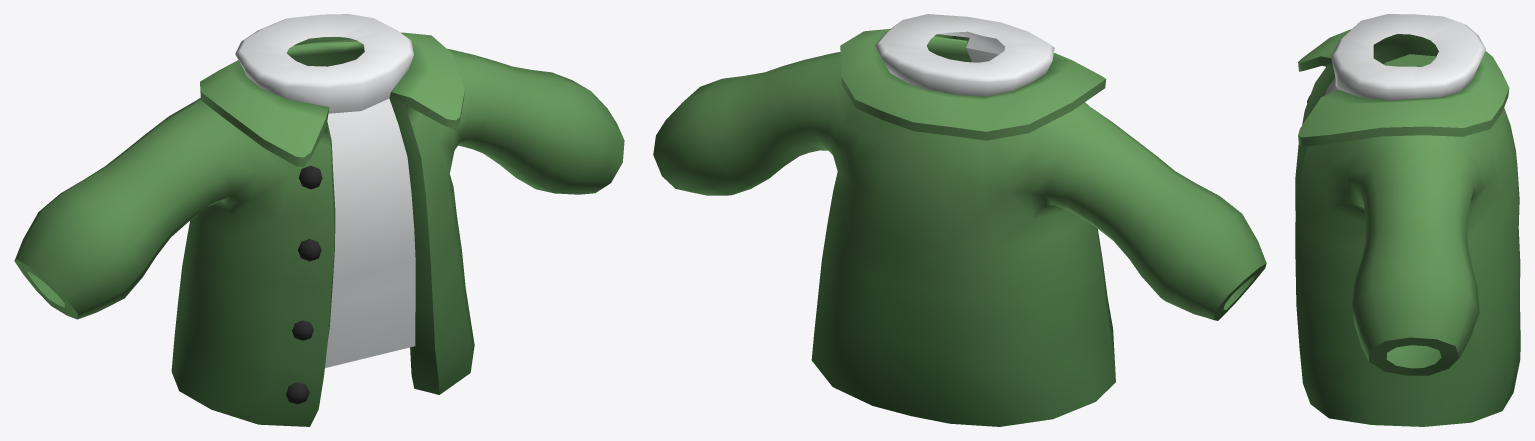
The model's file is Outwear_13.glb.
The picture shows the model from 3 angles, left to right: view 1: azimuth 30°, elevation 25°; view 2: azimuth 150°, elevation 25°; view 3: azimuth 270°, elevation 25°; orthographic projection.
Parts seen in each view (by area): view 1: Outwear_13; view 2: Outwear_13; view 3: Outwear_13.
Part boxes in pixels (box(x1,y1,x2,y2)): Outwear_13: box(14, 14, 624, 426); Outwear_13: box(653, 14, 1266, 426); Outwear_13: box(1295, 14, 1520, 426).
Bounding box in the file's own units: 0.6217 × 0.3377 × 0.209.
Materials: 1 (1 with a texture image).
